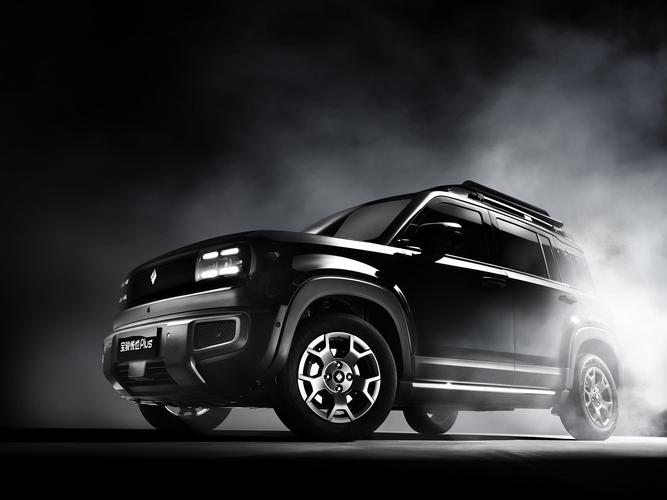汽车: (95, 172, 638, 443)
